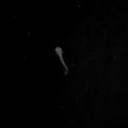fish: (55, 46, 69, 75)
